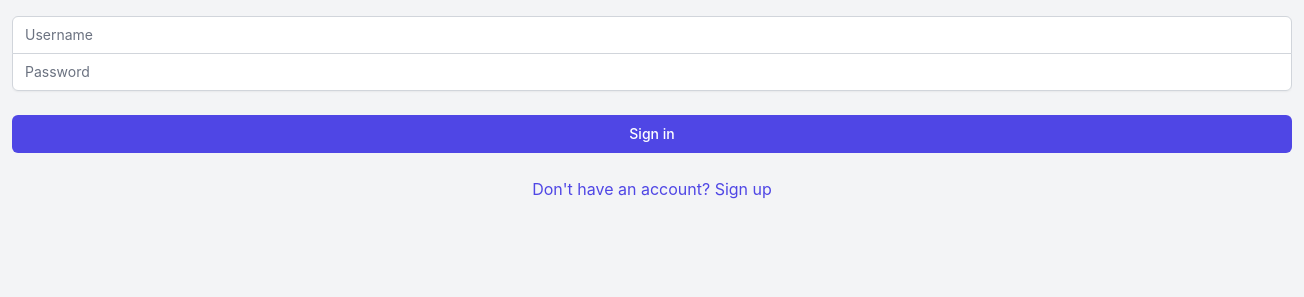
Test case: LoginForm Component › displays error message on registration failure
The width and height of the screenshot is (1304, 297).
Switch to registration form
Click the button "Don't have an account? Sign up" at (652, 189), box [532,177,772,201]
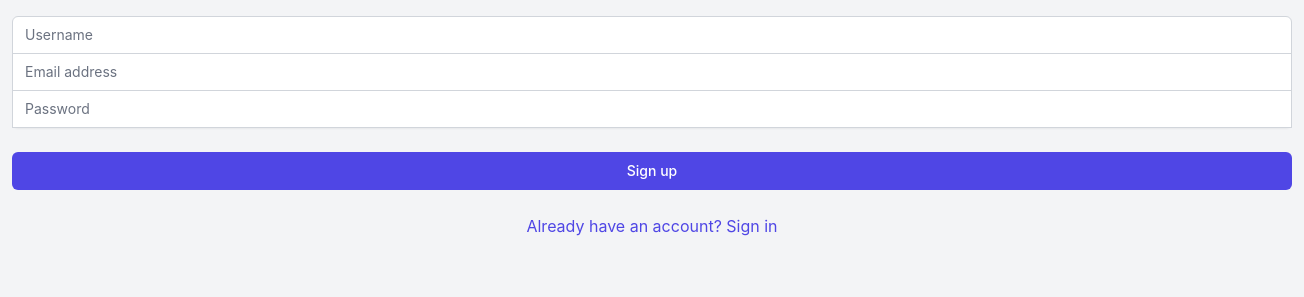
Type "newuser" into the field labelled "Username" at (652, 35), box [12,16,1292,54]
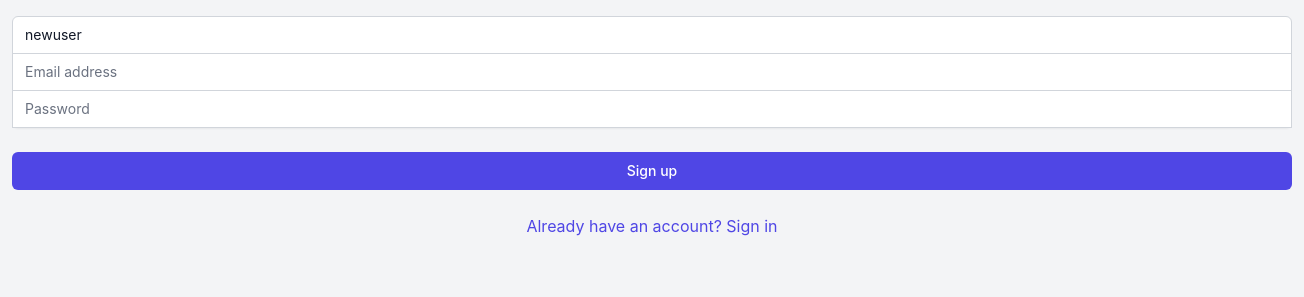
Type "test@example.com" into the field labelled "Email" at (652, 72), box [12,53,1292,91]
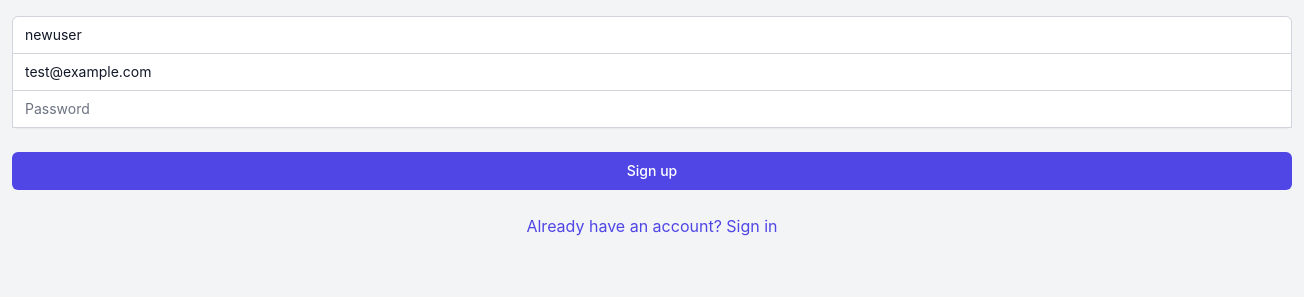
Type "password123" into the password field labelled "Password" at (652, 109), box [12,90,1292,128]
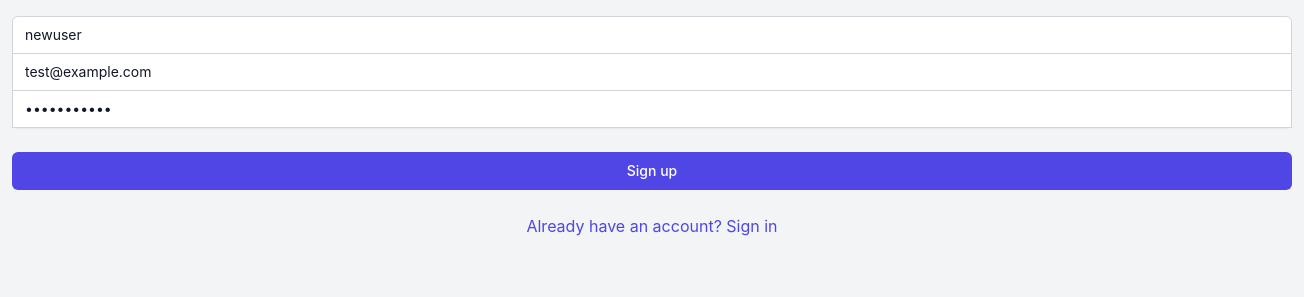
Click the button "Sign up" at (652, 171), box [12,152,1292,190]
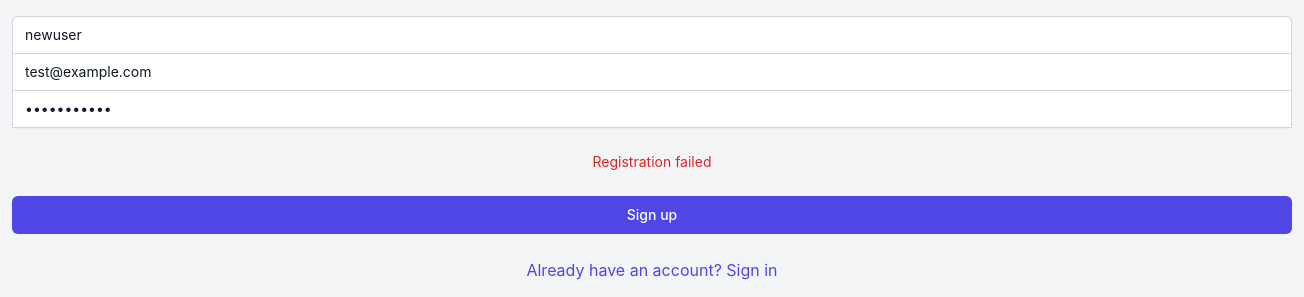
Check: the text "Registration failed" is shown, box [592,153,712,170]
